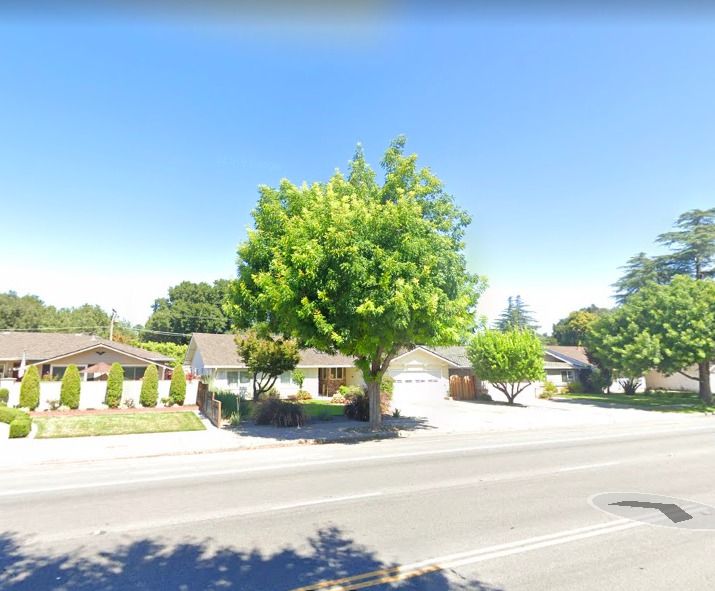tree: (222, 132, 490, 433)
